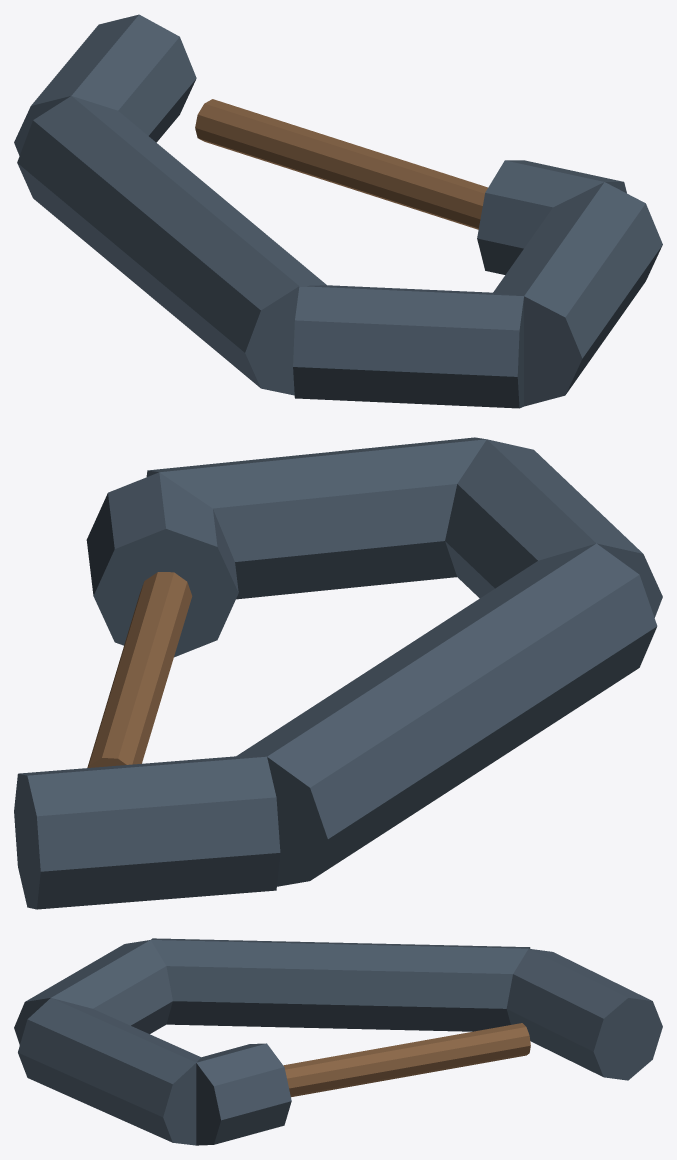
File: L-44_lanyard_hook.glb
3 renders of one model, top to bottom at view 1: azimuth 30°, elevation 25°; view 2: azimuth 150°, elevation 25°; view 3: azimuth 270°, elevation 25°, orthographic. The views are drawn at different scales.
Parts seen in each view (by area): view 1: L-44_lanyard_hook; view 2: L-44_lanyard_hook; view 3: L-44_lanyard_hook.
Part boxes in pixels (x1,y1,x2,y2): L-44_lanyard_hook: (14, 14, 662, 408); L-44_lanyard_hook: (14, 437, 662, 909); L-44_lanyard_hook: (14, 938, 662, 1145).
Bounding box in the file's own units: 0.0902 × 0.022 × 0.1562.
